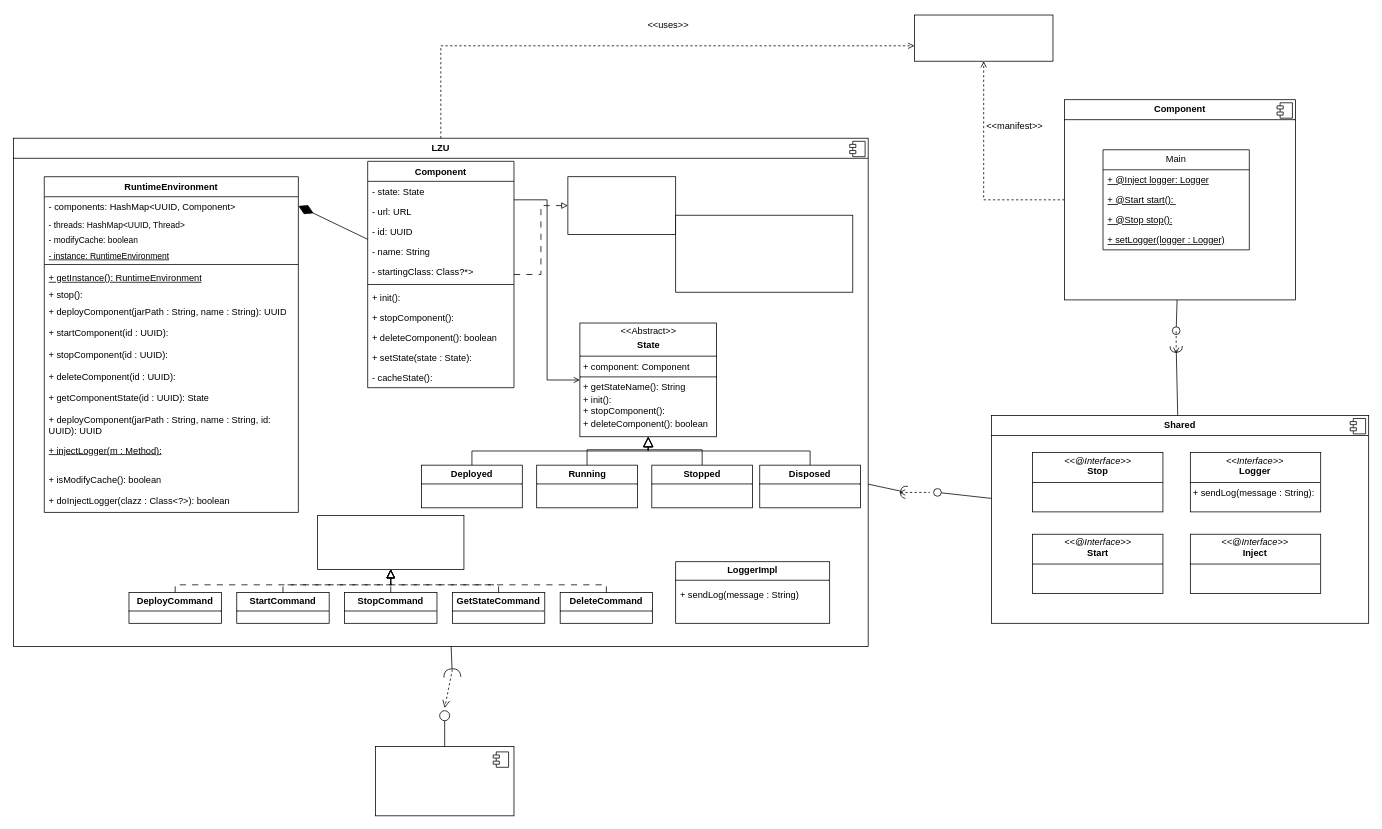
The diagram is 1382 pixels wide and 829 high, and some of its shapes have lost their labels. The shapes that lost their labels are listed below. From the top down, each one's centre as x and y in pixels, then its label:
(983,37): <<artifact>> Component.jar
(621,205): <<Interface>> Runnable + run():
(764,253): CLI - rte: RuntimeEnviron + delegateCommand(command : String): + main():
(390,542): <<Interface>> Command + execute():
(444,781): «Annotation» Datenbanksystem
